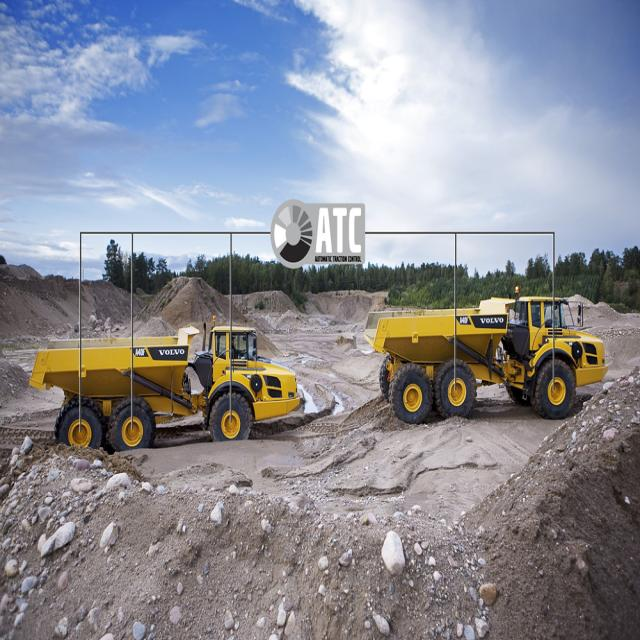dump_truck: (39, 295, 308, 451), (366, 287, 612, 440)
